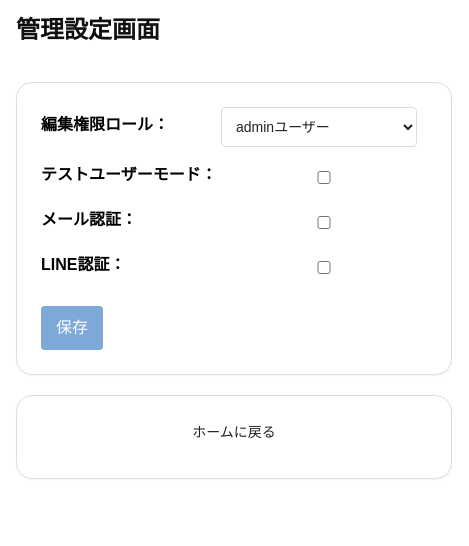
RootSetting › 保存成功 (status 200)：POST 内容が正しく、メッセージ表示＆dirty 解除
Select "一般ユーザー" in the dropdown at (319, 127), box x1=221 y1=107 x2=417 y2=147
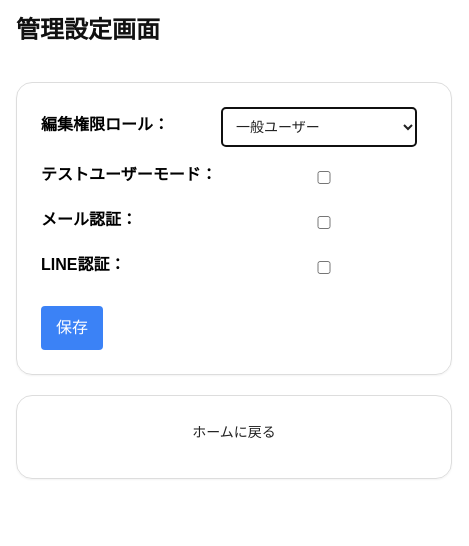
Click the checkbox next to "テストユーザーモード：".
click(324, 178)  # box x1=221 y1=171 x2=427 y2=184
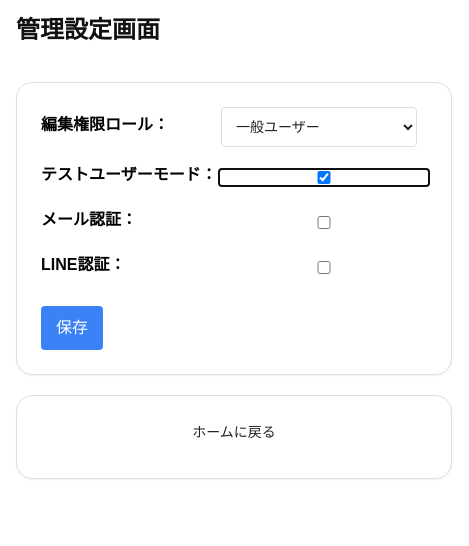
Click the checkbox next to "メール認証：".
click(324, 222)  # box x1=221 y1=216 x2=427 y2=229
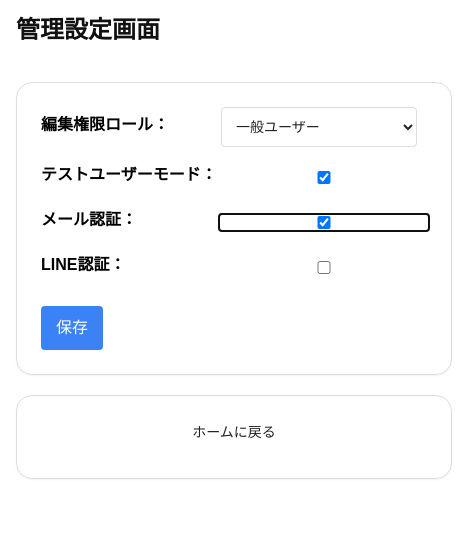
Click the button "保存".
click(72, 328)  # box x1=41 y1=306 x2=103 y2=350
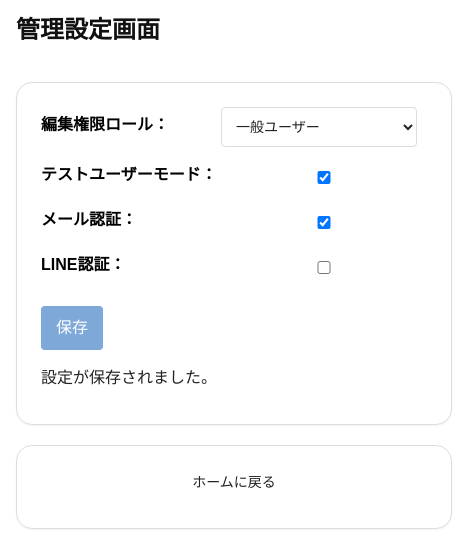
Now the text "設定が保存されました。" is shown, box x1=41 y1=369 x2=217 y2=386
Now the button "保存" is disabled, box x1=41 y1=306 x2=103 y2=350
